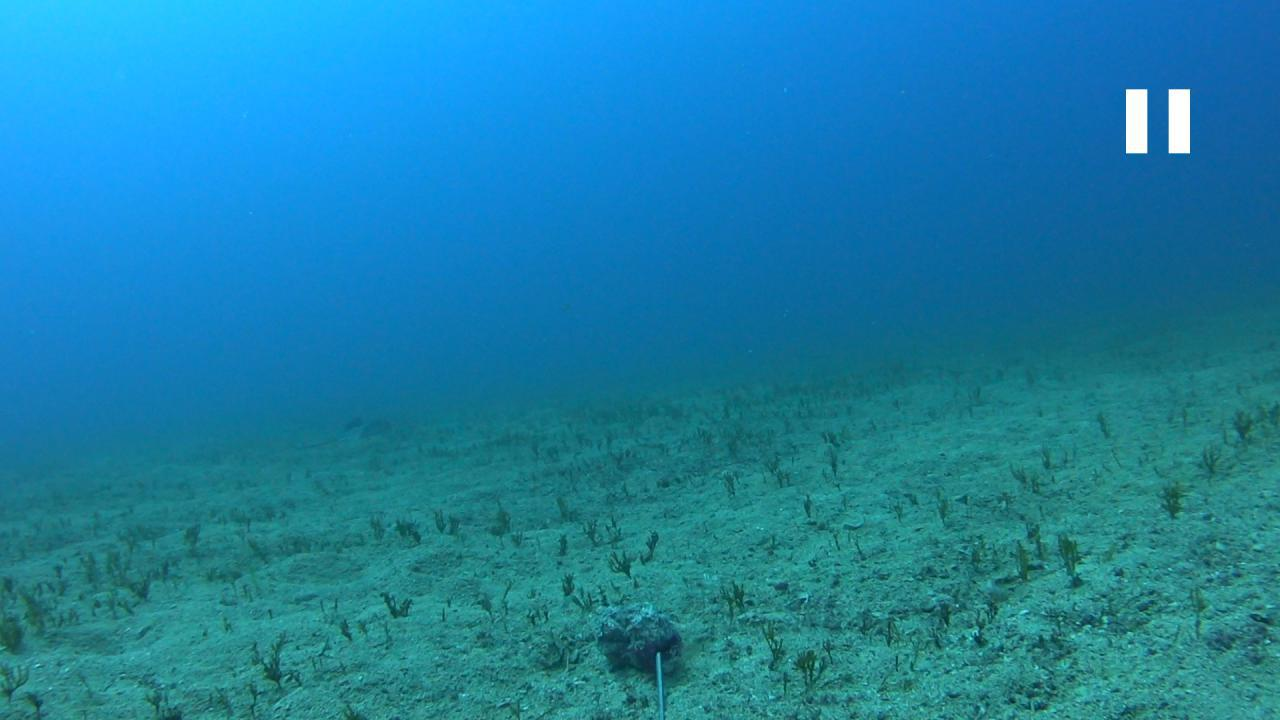dasyatis: (301, 413, 391, 450)
